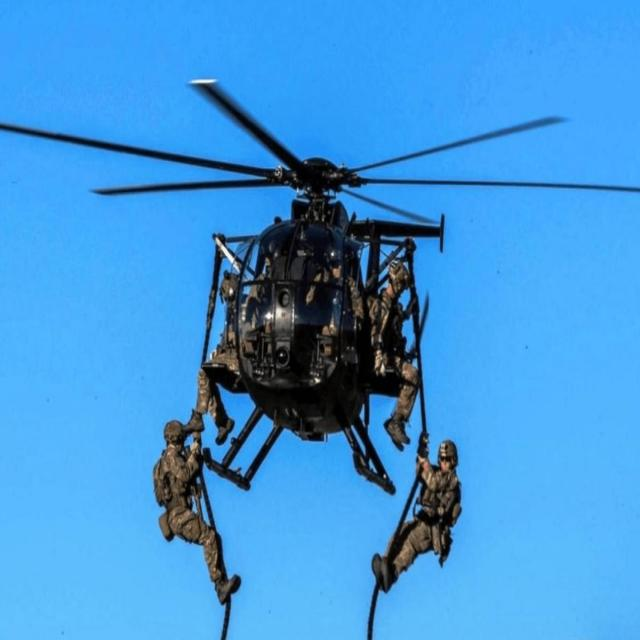MIL_HELO: (16, 77, 640, 496)
